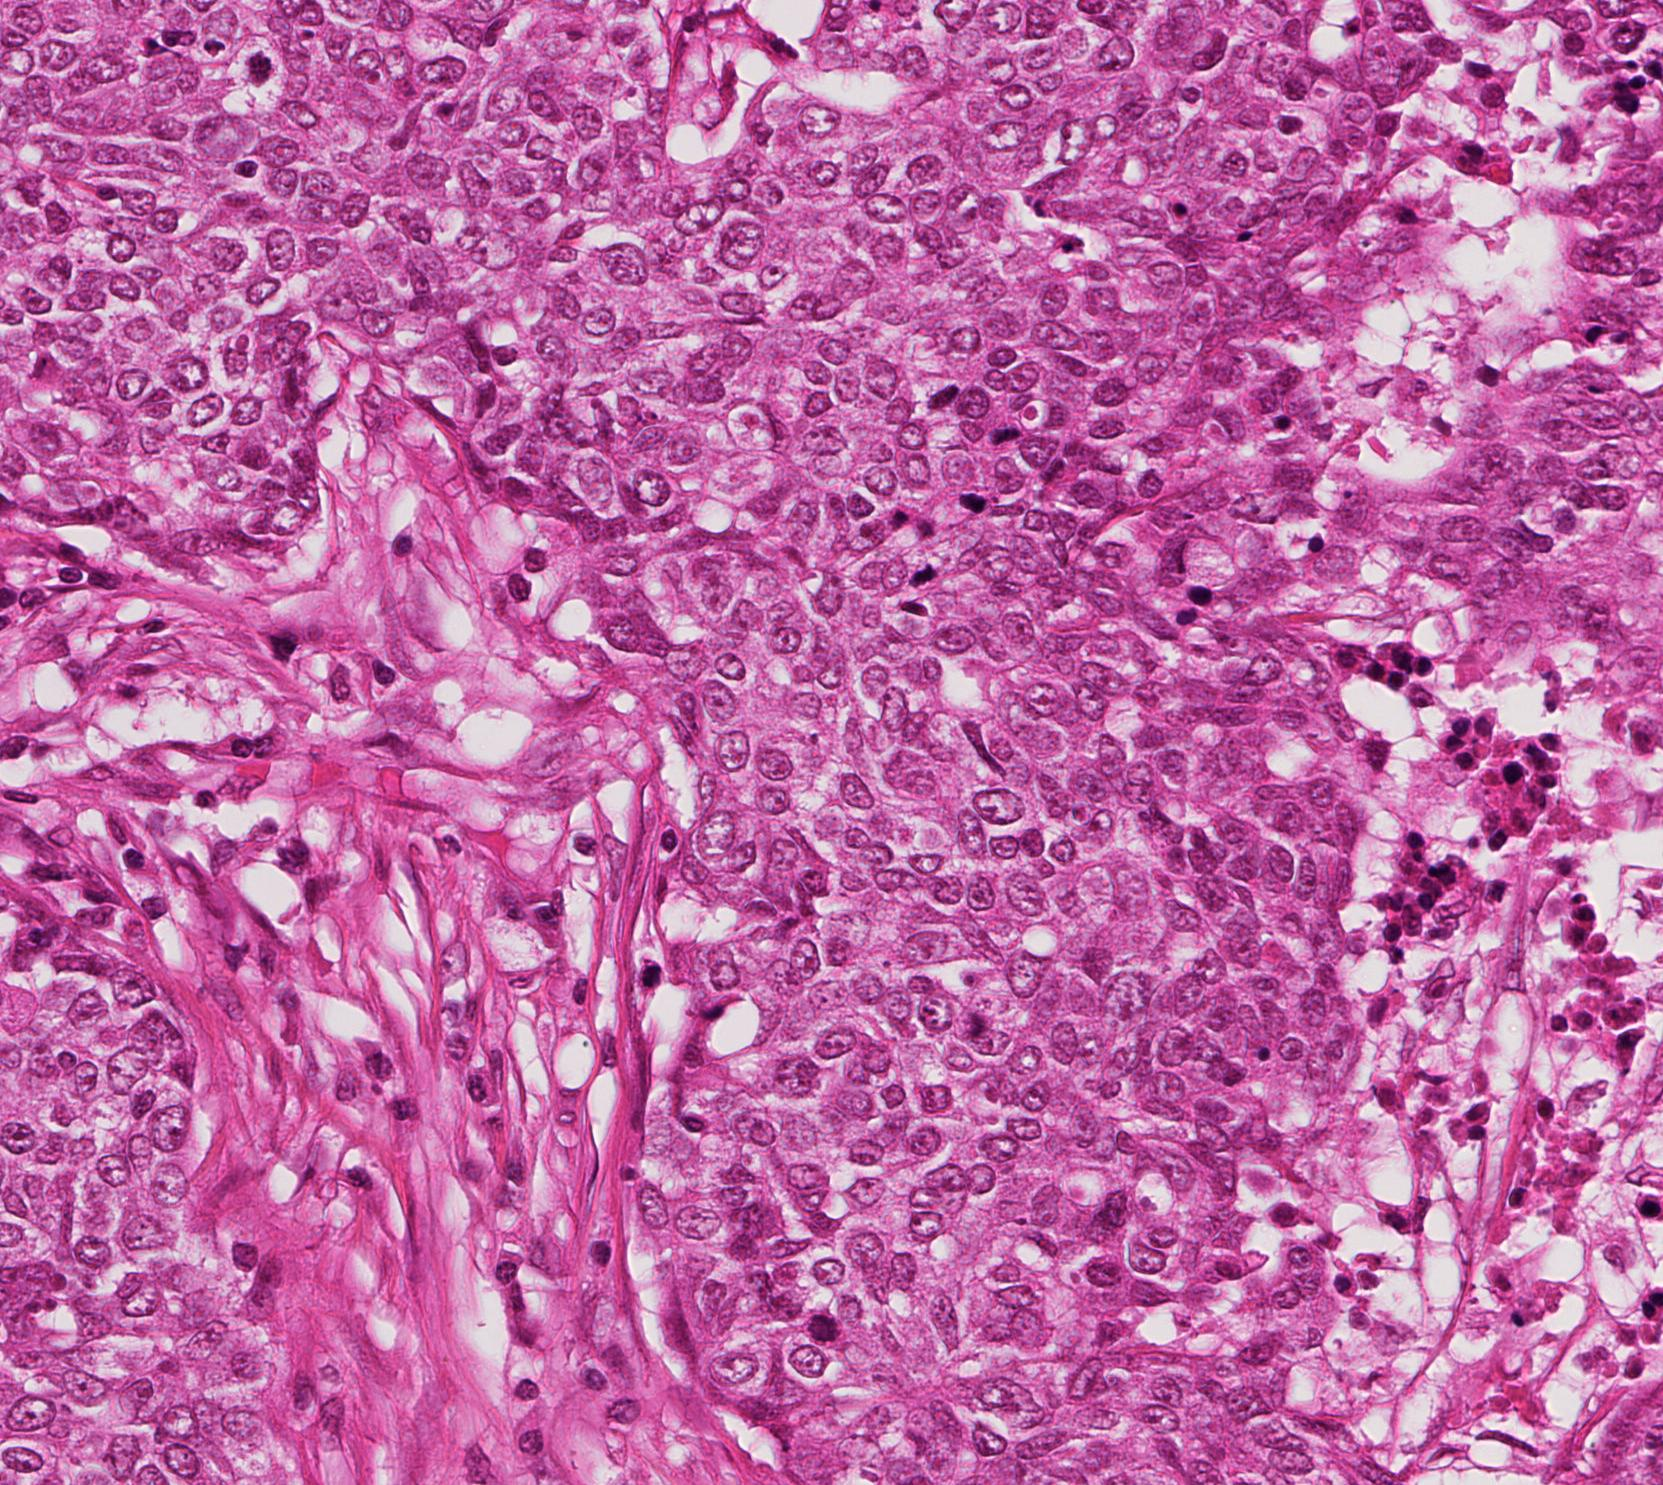mitosis: (786, 1299, 846, 1359)
